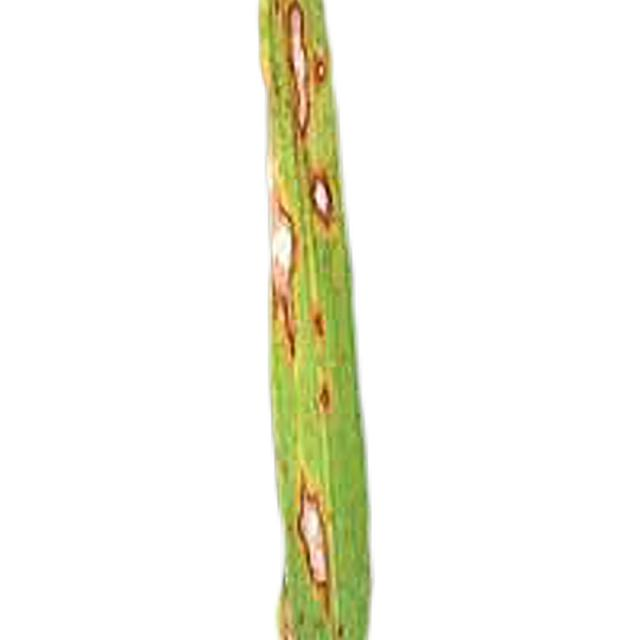Leaf blast: (286, 458, 351, 628), (264, 175, 300, 358), (280, 4, 330, 133), (300, 158, 338, 218), (310, 302, 332, 343), (316, 372, 334, 409)
